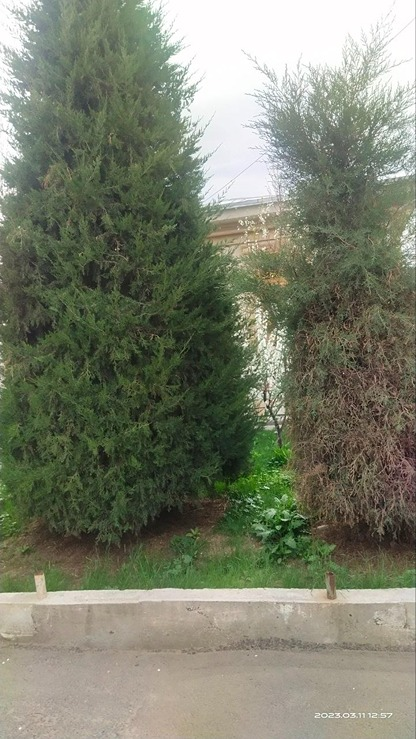tree: (6, 3, 244, 529), (224, 9, 416, 576)
